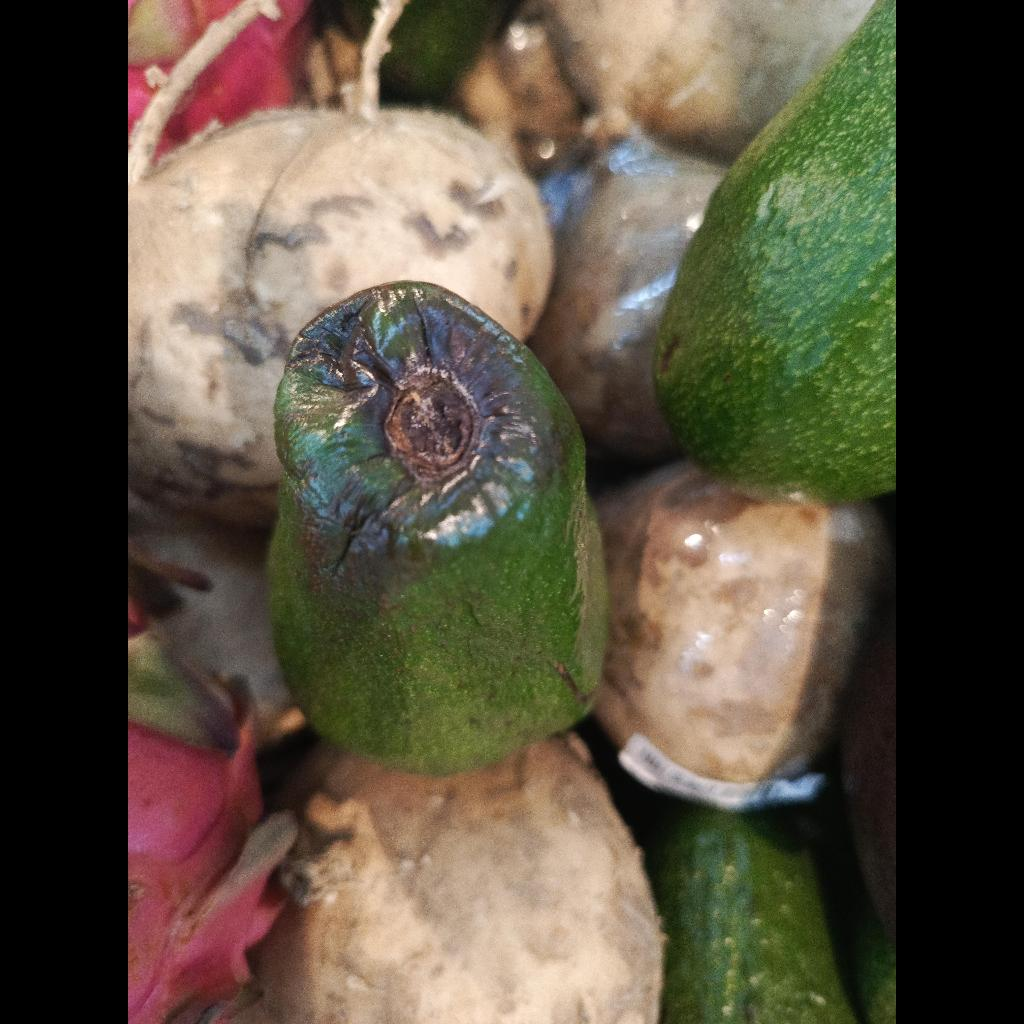stem end rot: (269, 280, 607, 775)
